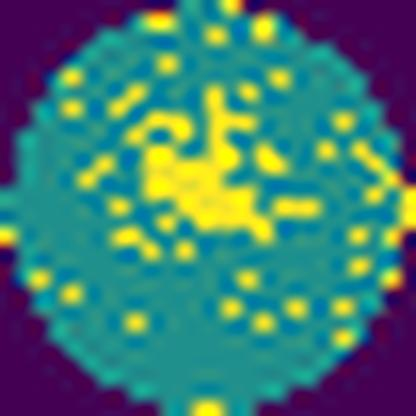Center: (128, 87, 278, 245)
